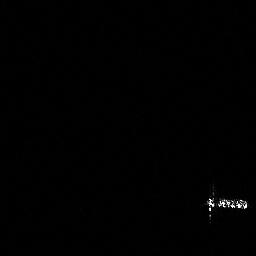ship: (201, 183, 248, 226)
